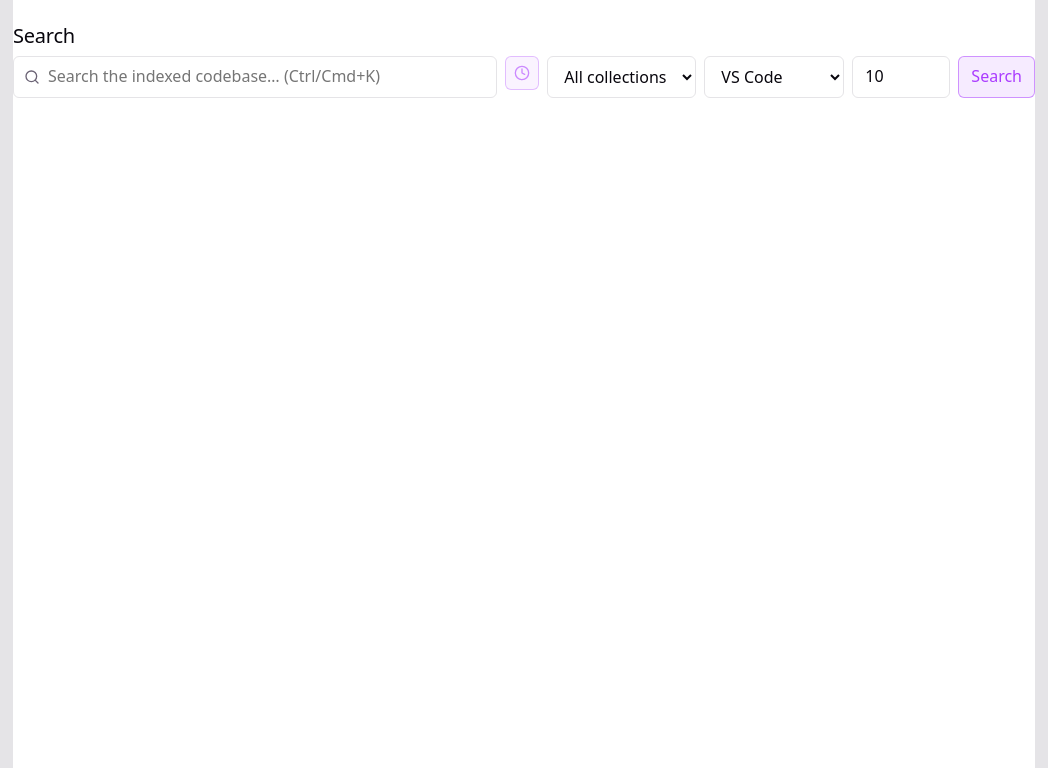
it: SearchPanel › shows an empty-state message when a search returns nothing
In the field with placeholder "Search the indexed codebase… (Ctrl/Cmd+K)": point(267, 77) [48,57,486,96], type "nothing here"
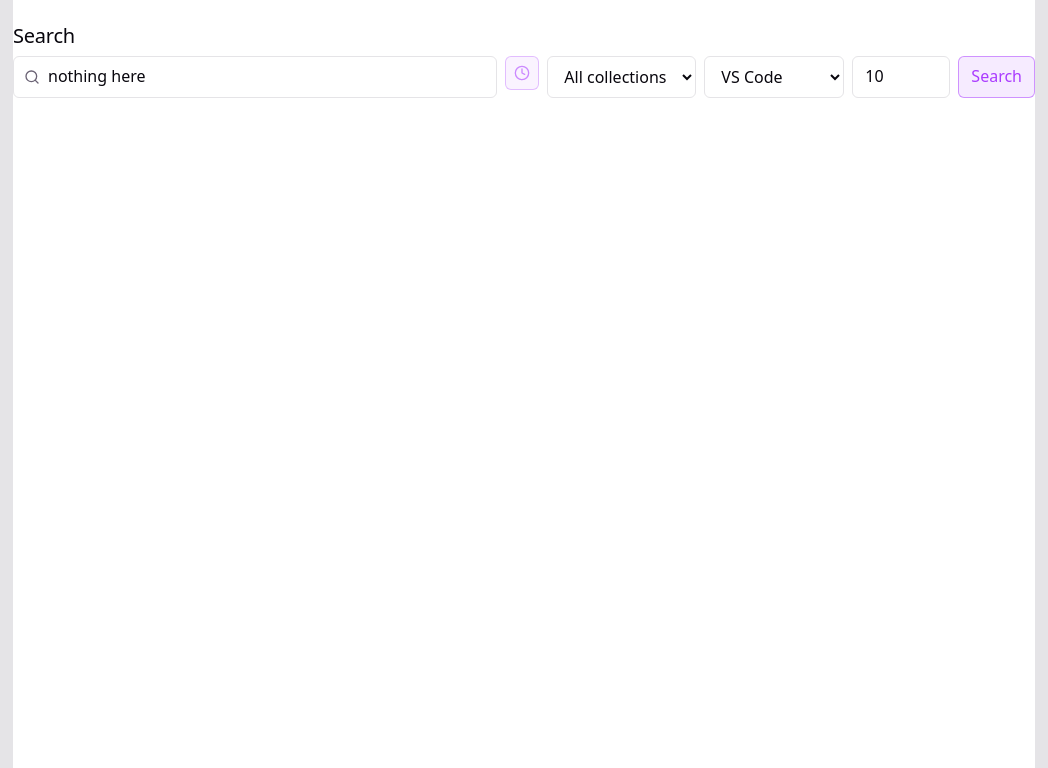
Submit the form, box [13,56,1035,98]
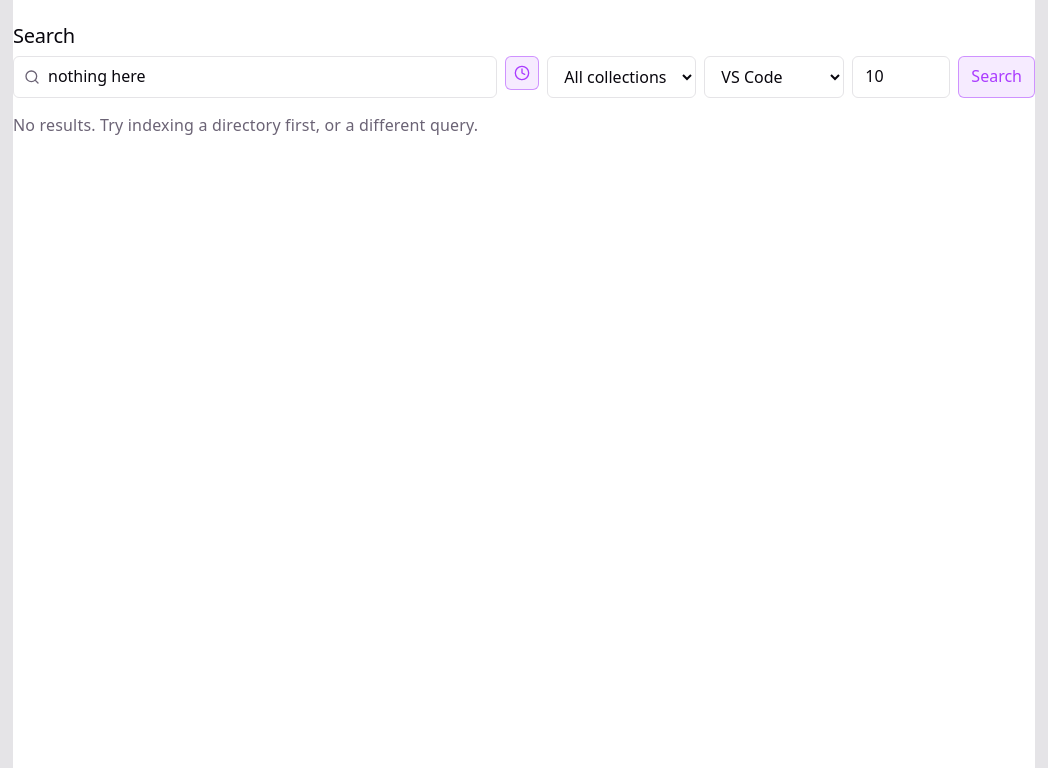
Check: the text "No results" is shown, box [13,114,478,136]
